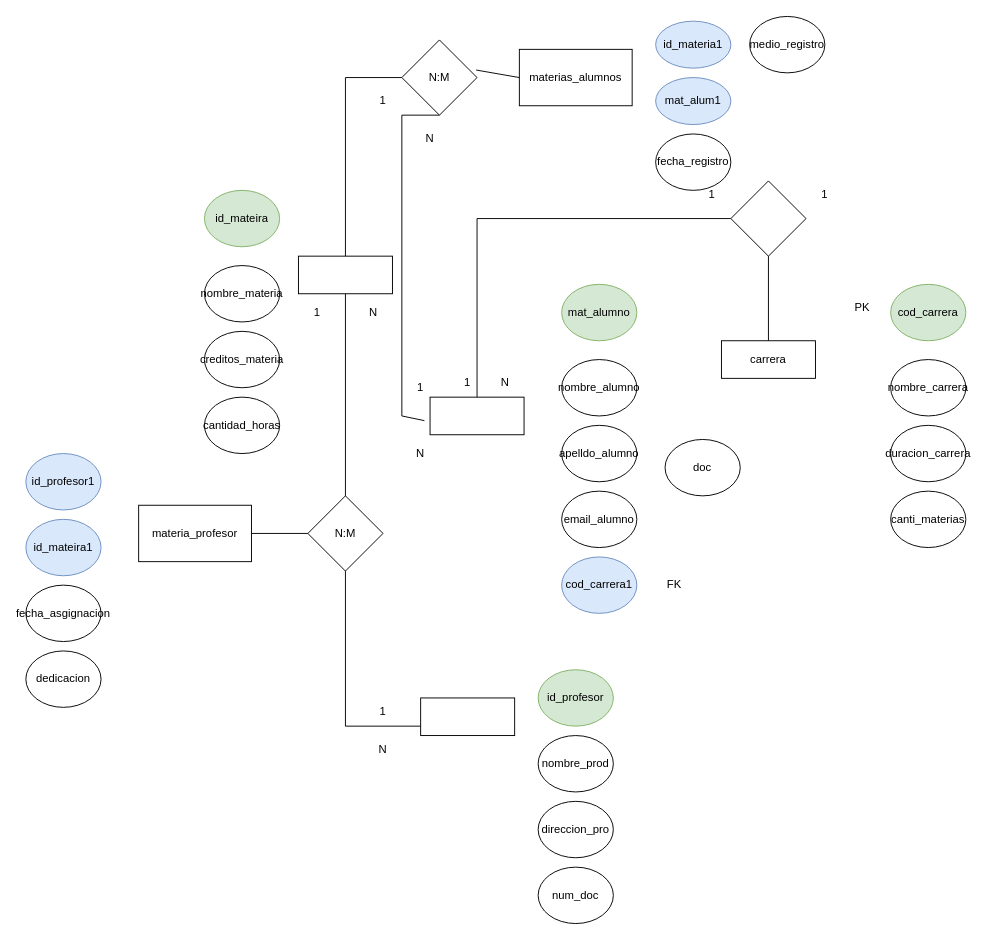
Image size: 987x940. Some labels were removed from this diagram. The centre of each missing label's shape, as x and y in pixels:
"1:N" belongs at (x=768, y=218).
"alumnos" belongs at (x=476, y=415).
"materias" belongs at (x=345, y=274).
"profesores" belongs at (x=467, y=716).
